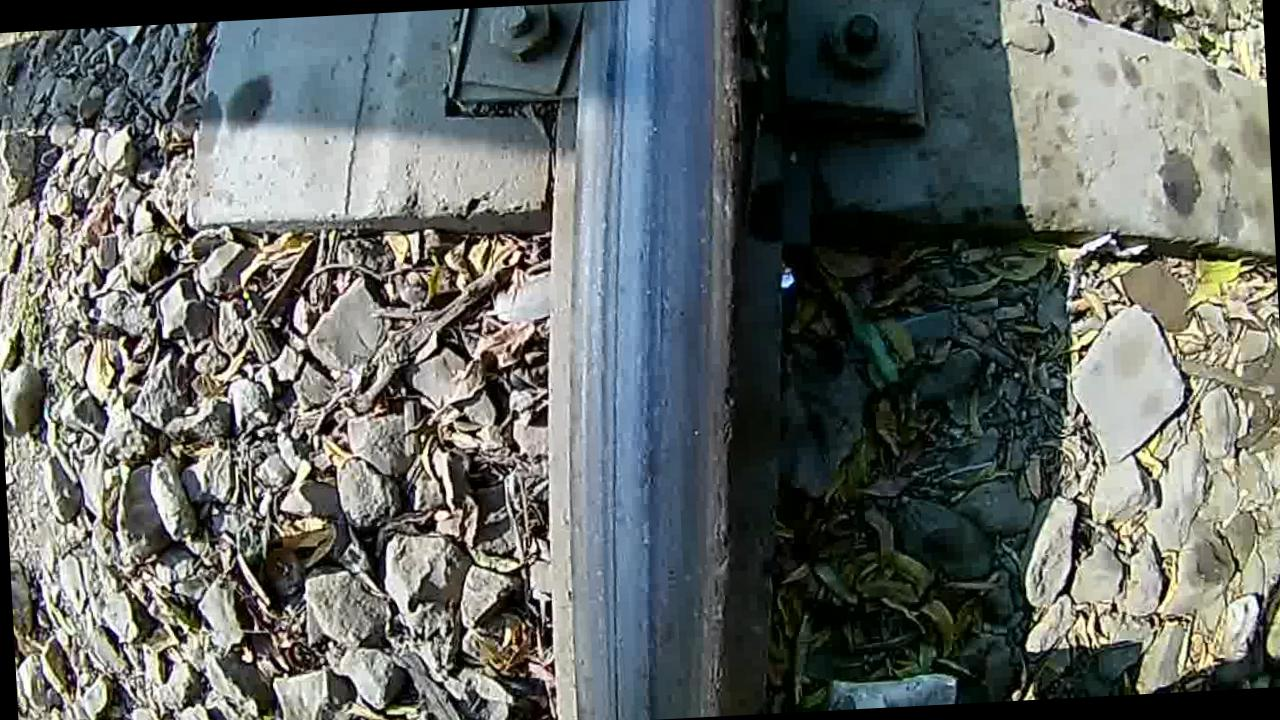clip_missing: (526, 0, 782, 720)
